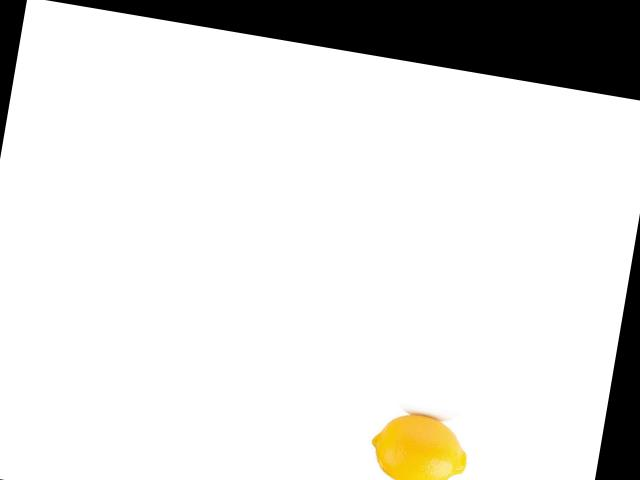lemon: (363, 402, 478, 480)
